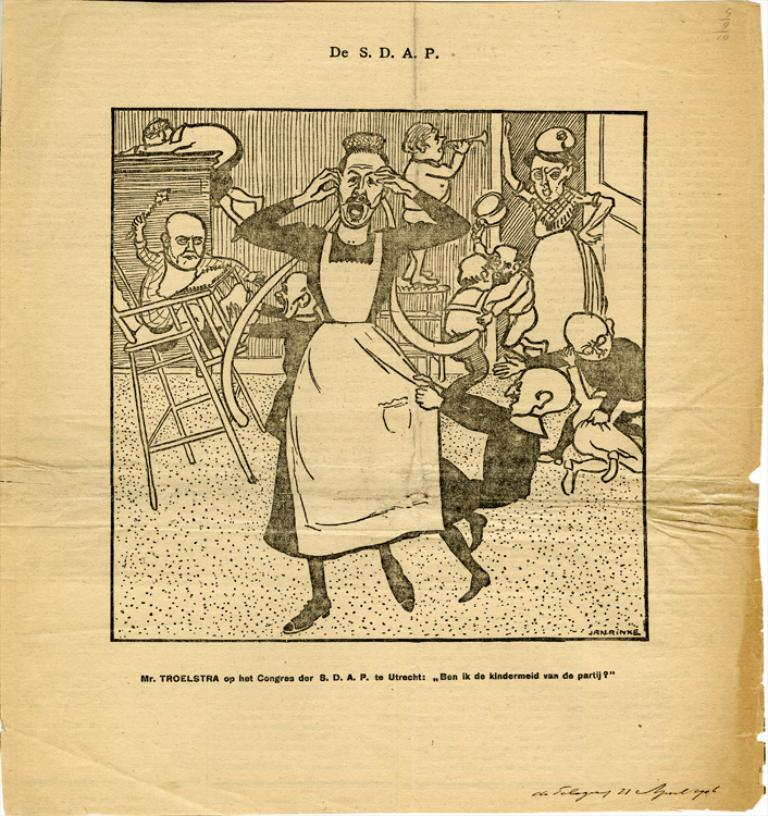Sem Máscara: (332, 150, 385, 228), (564, 315, 610, 361), (168, 213, 204, 267), (526, 156, 565, 194), (512, 370, 534, 411), (425, 130, 447, 167)
